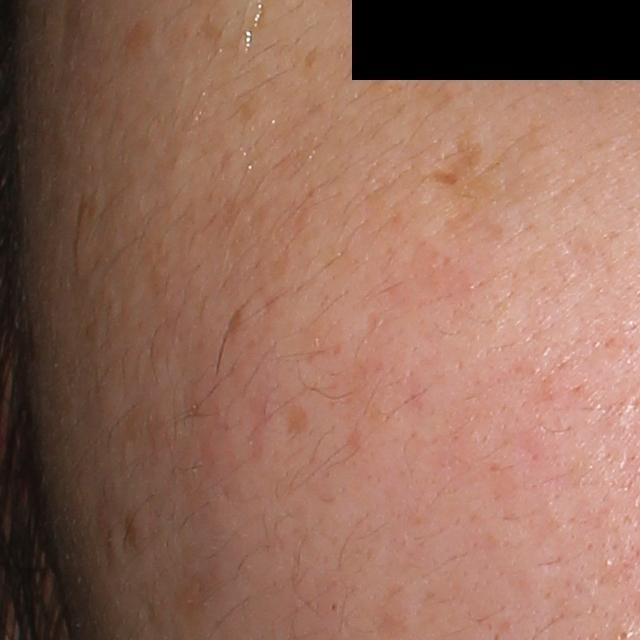melasma: (425, 119, 555, 223), (118, 18, 156, 60), (300, 45, 321, 72)
